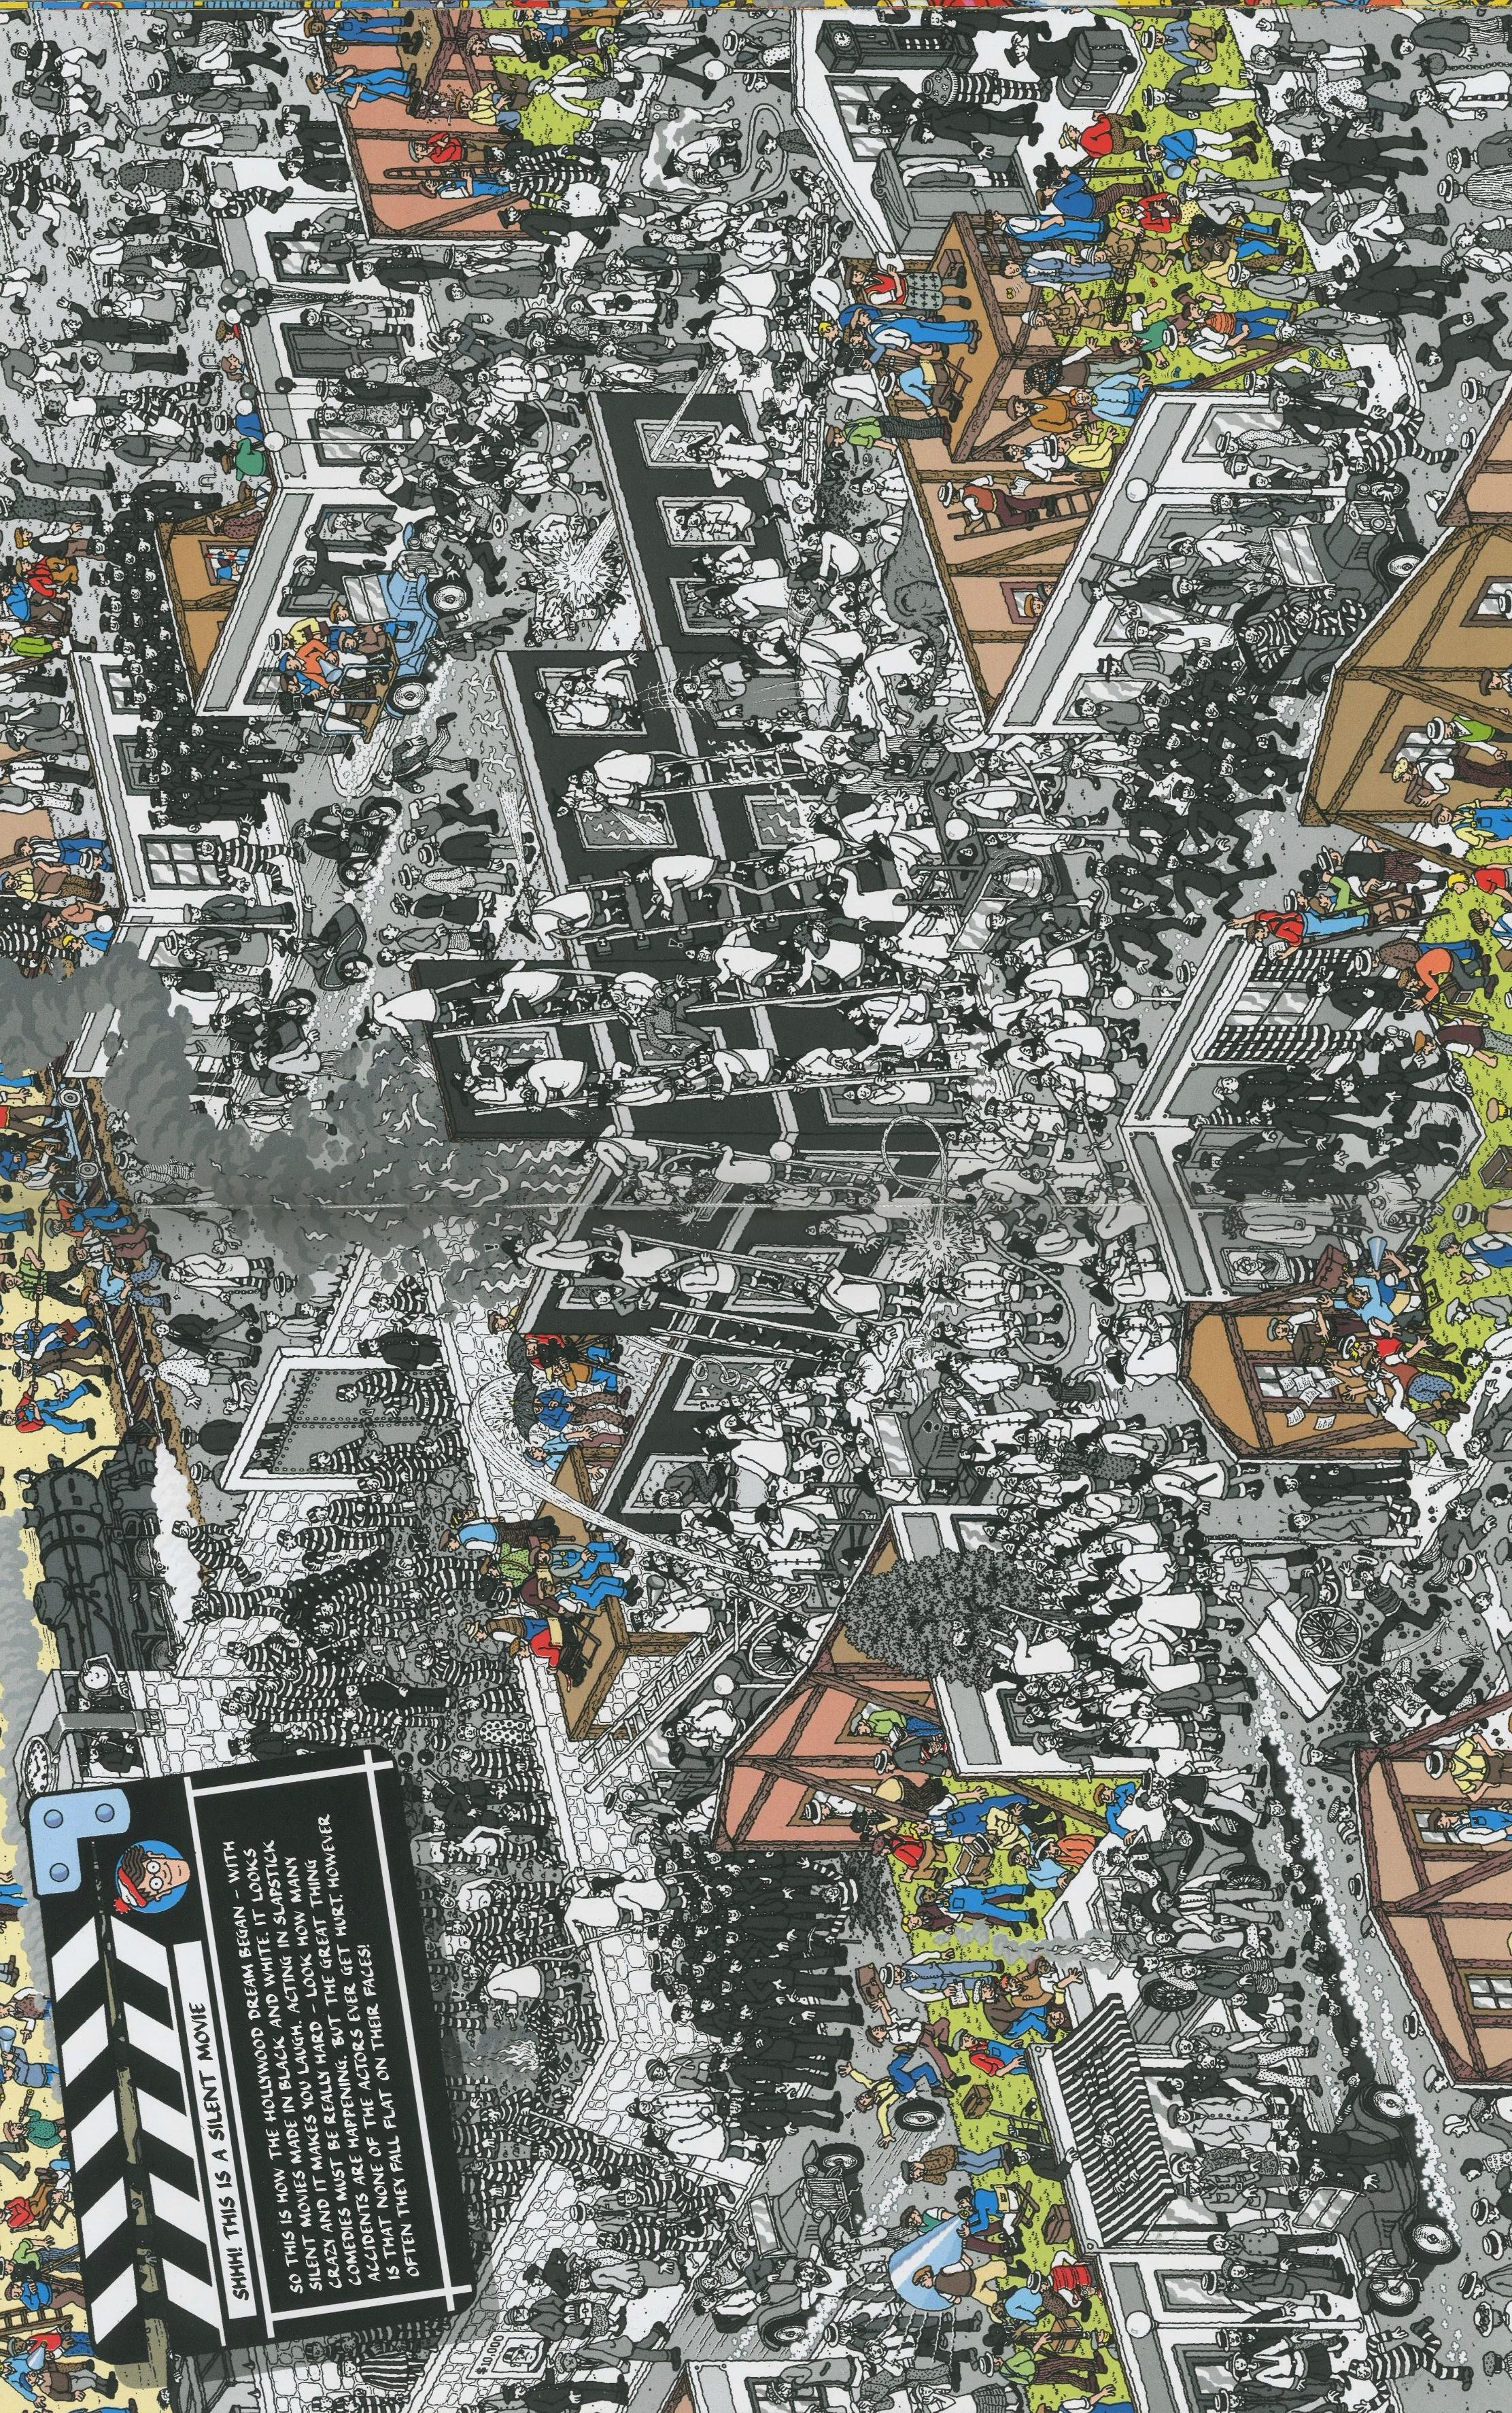waldos: (1070, 2282, 1104, 2307)
